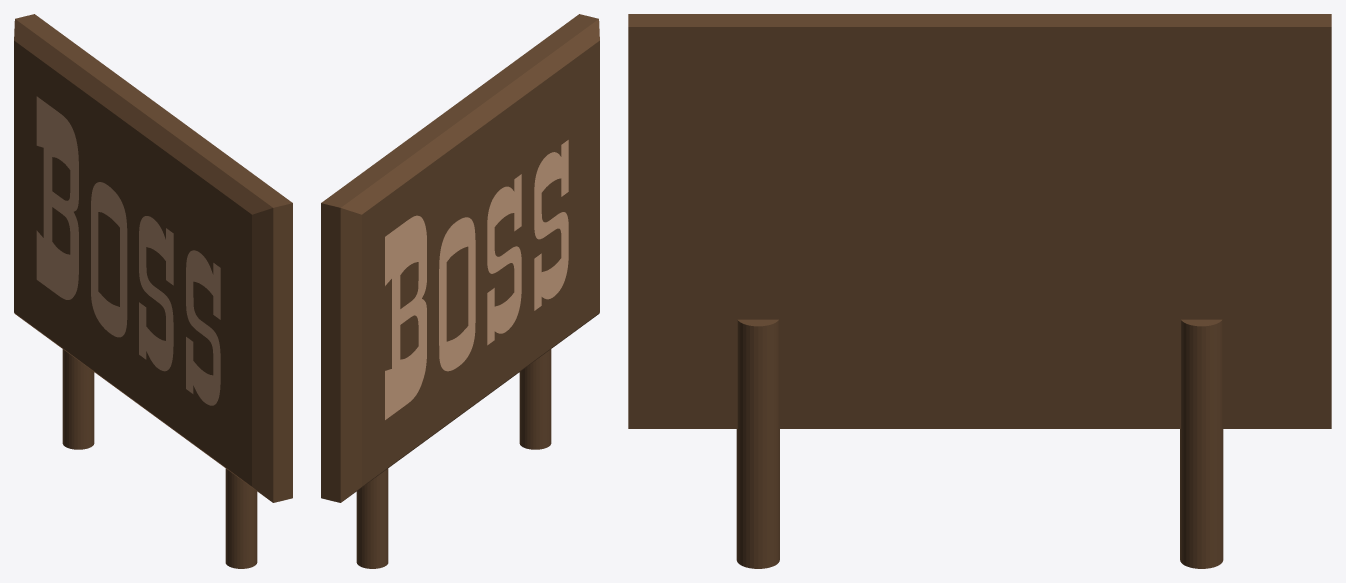
The model's file is Boss.fbx.
3 renders of one model, left to right at view 1: azimuth 30°, elevation 25°; view 2: azimuth 150°, elevation 25°; view 3: azimuth 270°, elevation 25°, orthographic. The views are drawn at different scales.
Visible parts, largest first — view 1: Cube.007, Text, Cylinder, Cylinder.001; view 2: Cube.007, Text, Cylinder.001, Cylinder; view 3: Cube.007, Cylinder, Cylinder.001.
Boxes of the visible parts, bbox=[...] form: Cube.007: bbox=[14, 14, 292, 502]; Text: bbox=[36, 96, 220, 405]; Cylinder: bbox=[62, 349, 94, 449]; Cylinder.001: bbox=[225, 468, 257, 568]; Cube.007: bbox=[321, 14, 599, 502]; Text: bbox=[385, 140, 568, 419]; Cylinder.001: bbox=[519, 349, 551, 449]; Cylinder: bbox=[356, 468, 388, 568]; Cube.007: bbox=[628, 14, 1331, 428]; Cylinder: bbox=[1180, 319, 1223, 568]; Cylinder.001: bbox=[736, 319, 779, 568].
Size of the model in its own units: 28.97 by 266 by 317.
